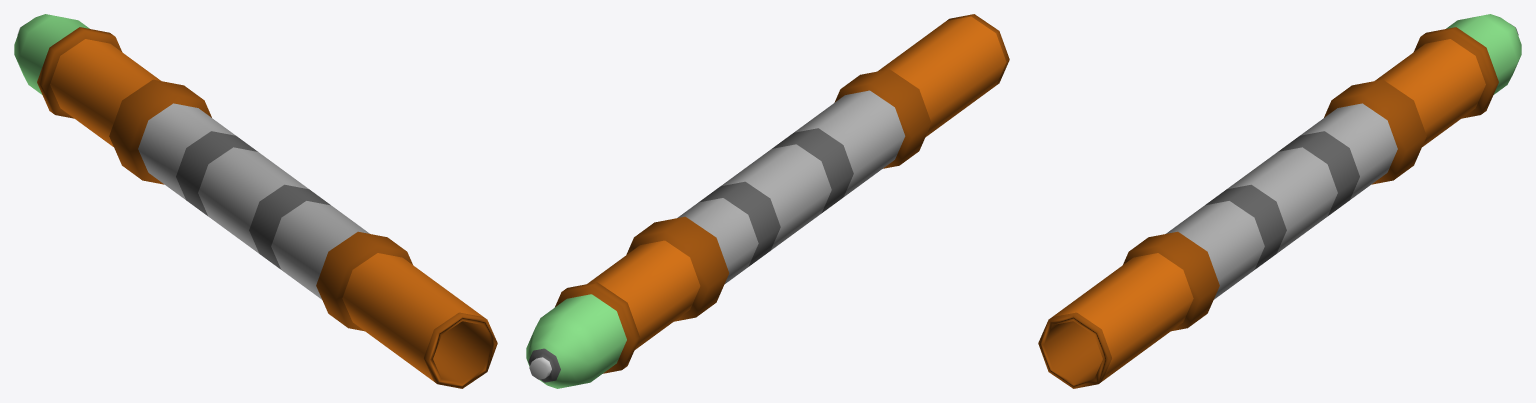
The model's file is boga.fbx.
3 renders of one model, left to right at view 1: azimuth 30°, elevation 25°; view 2: azimuth 150°, elevation 25°; view 3: azimuth 330°, elevation 25°, orthographic.
Visible parts, largest first — view 1: boga; view 2: boga; view 3: boga.
Boxes of the visible parts, box(x1,y1,x2,y2) form: boga: box(14, 14, 497, 388); boga: box(526, 14, 1009, 388); boga: box(1038, 14, 1521, 388).
Bounding box in the file's own units: 0.29 × 0.29 × 2.49.
